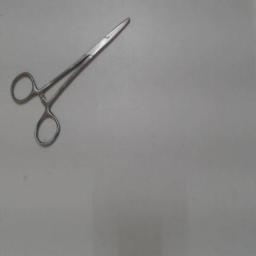Mayo Needle Holder: (5, 7, 149, 151)
